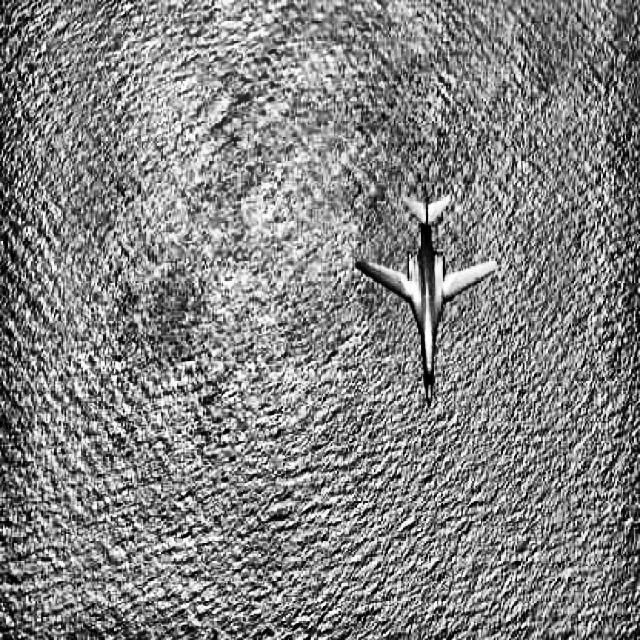B1: (355, 193, 496, 407)
